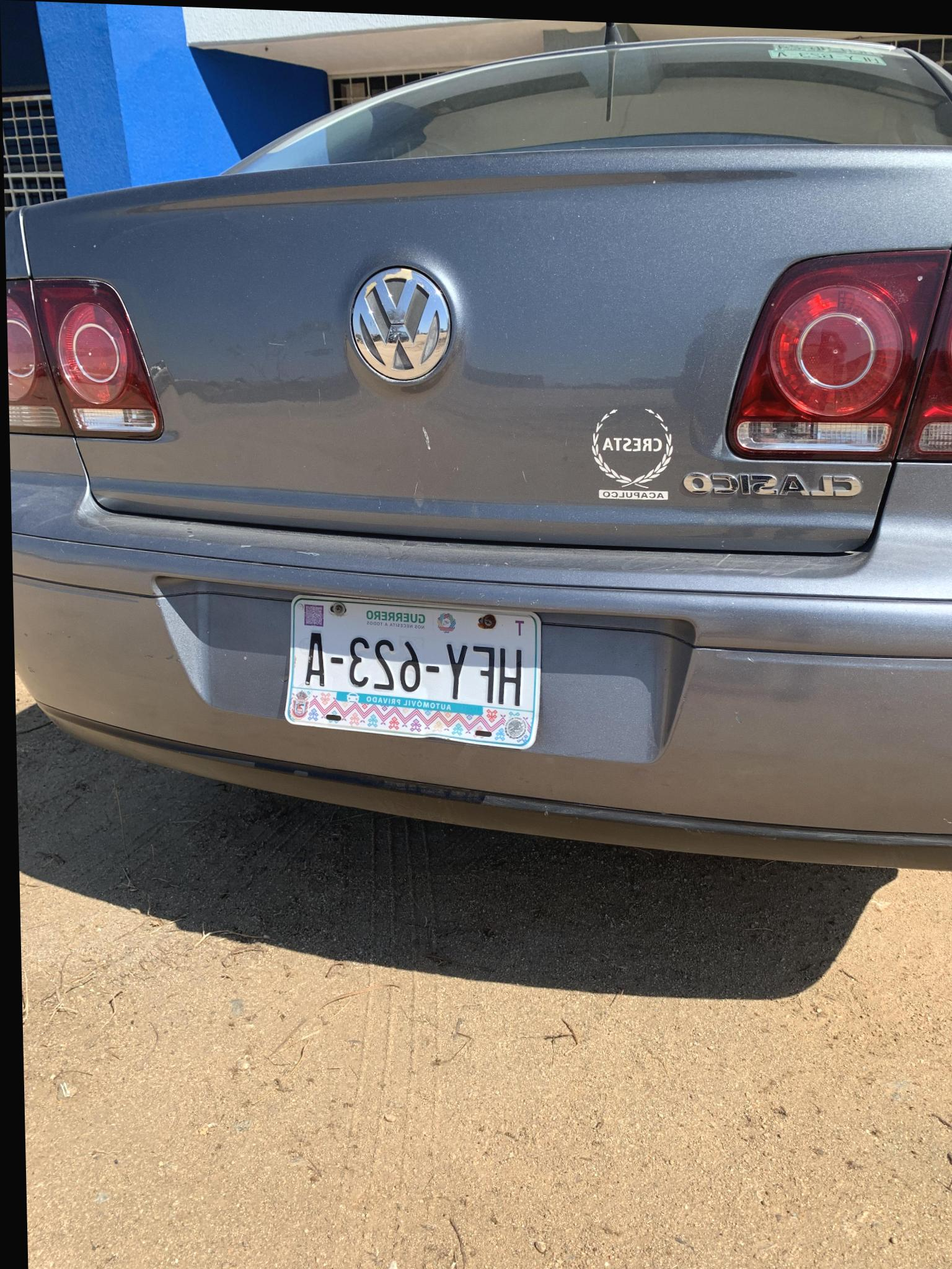License_Plate: (268, 582, 570, 763)
